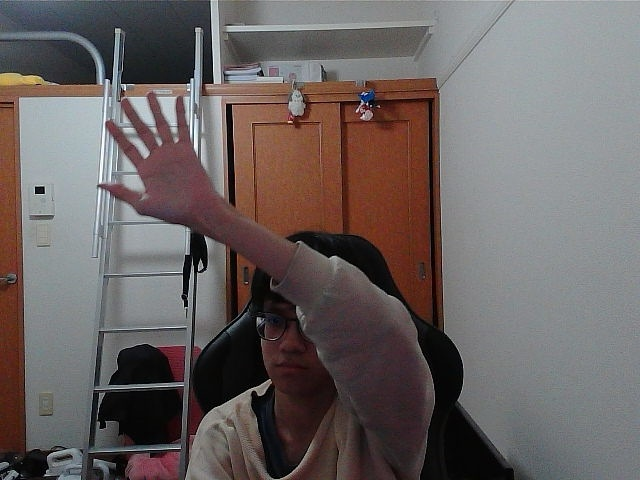open_palm: (108, 95, 196, 215)
